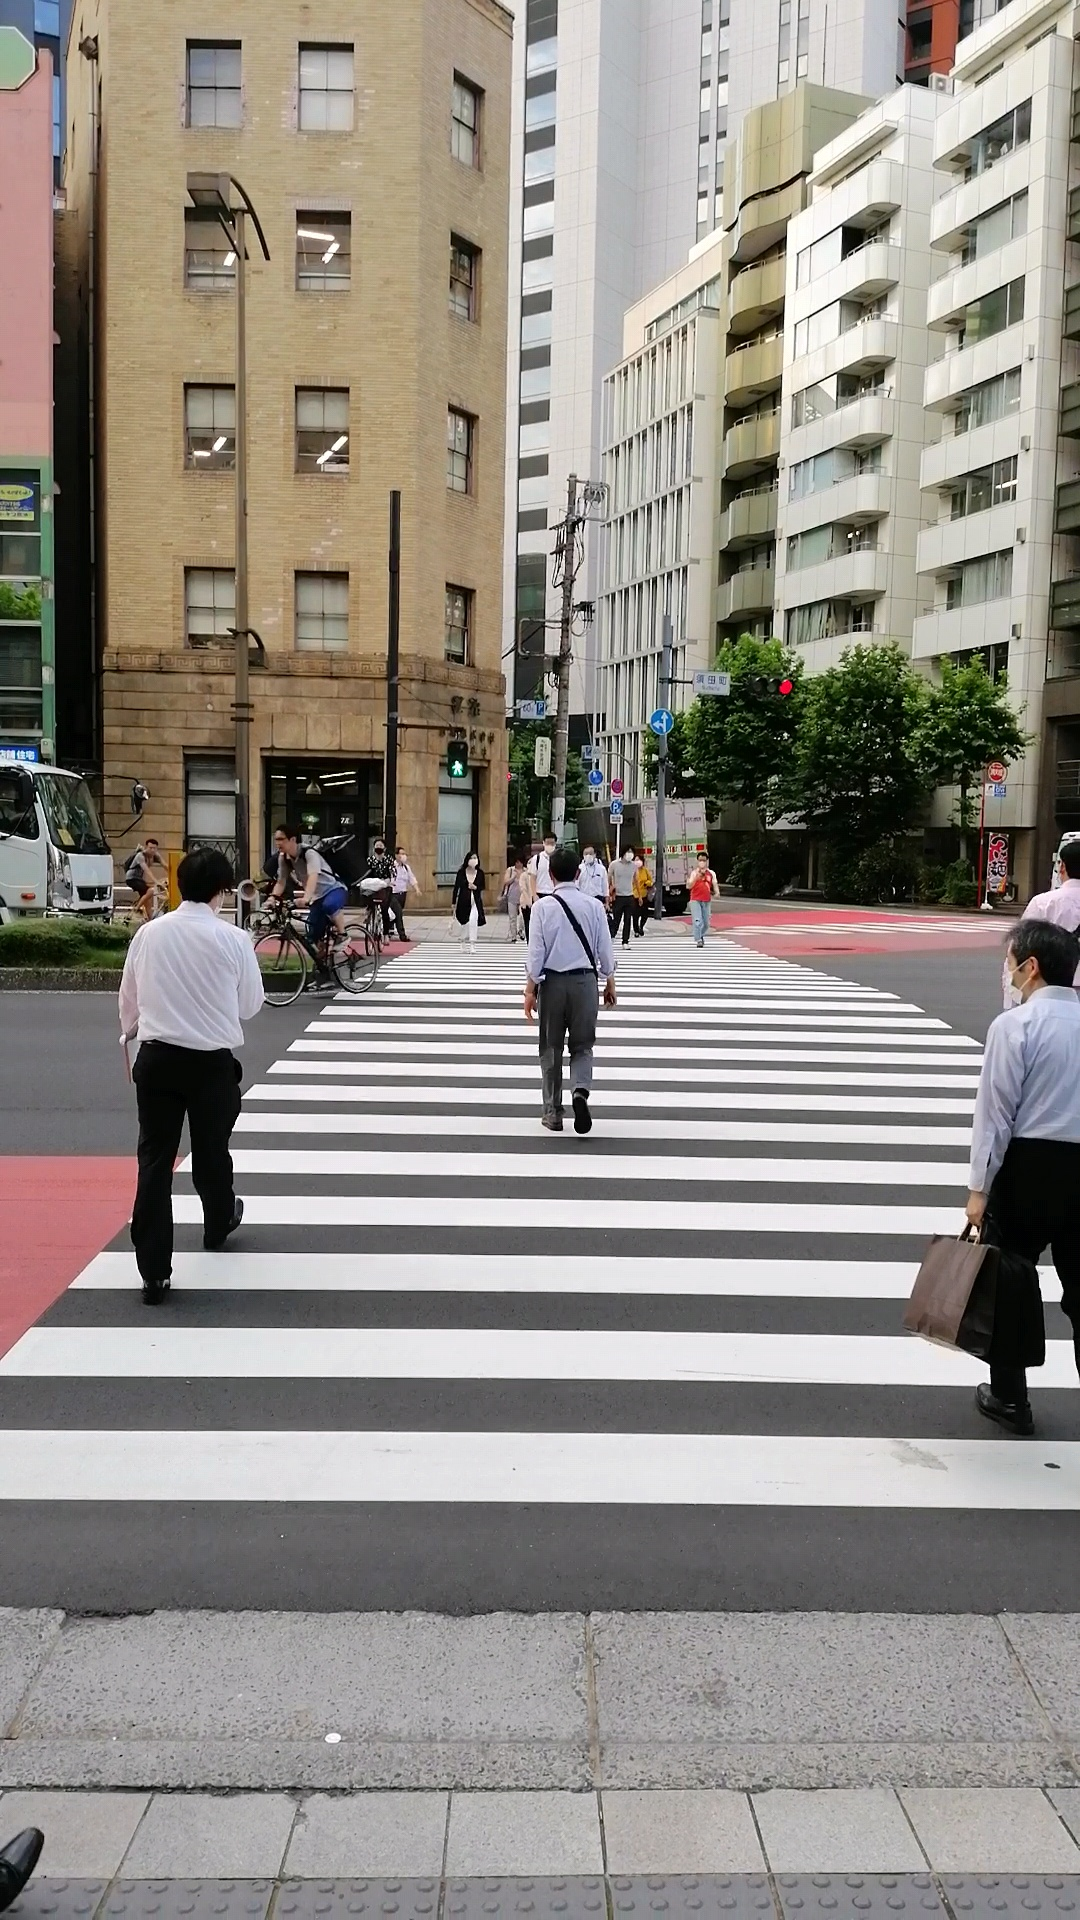green: (447, 738, 468, 779)
